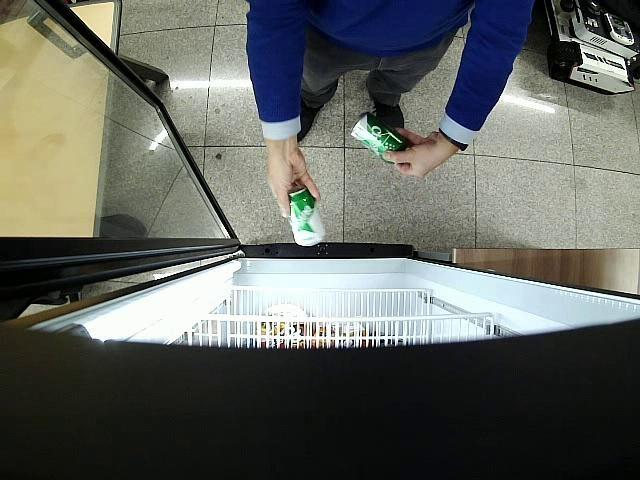12_chilsungCider: (352, 114, 408, 163), (288, 188, 326, 246)
